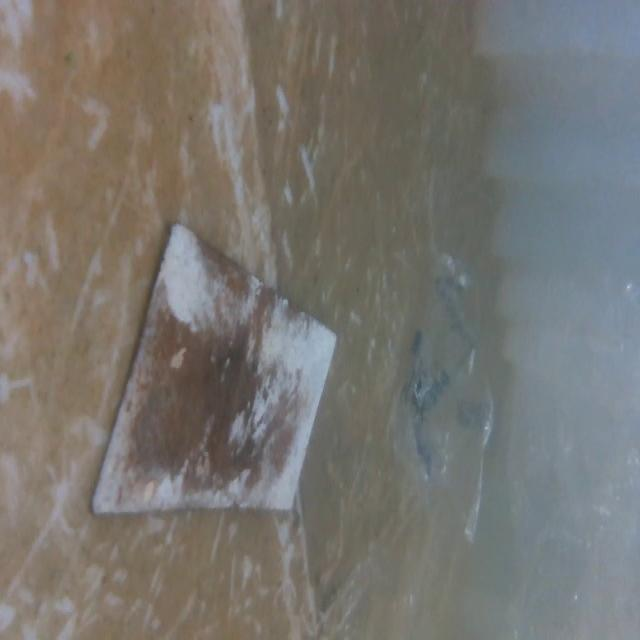metal: (97, 213, 342, 542)
plastic bags: (522, 273, 640, 640), (378, 244, 503, 545)
